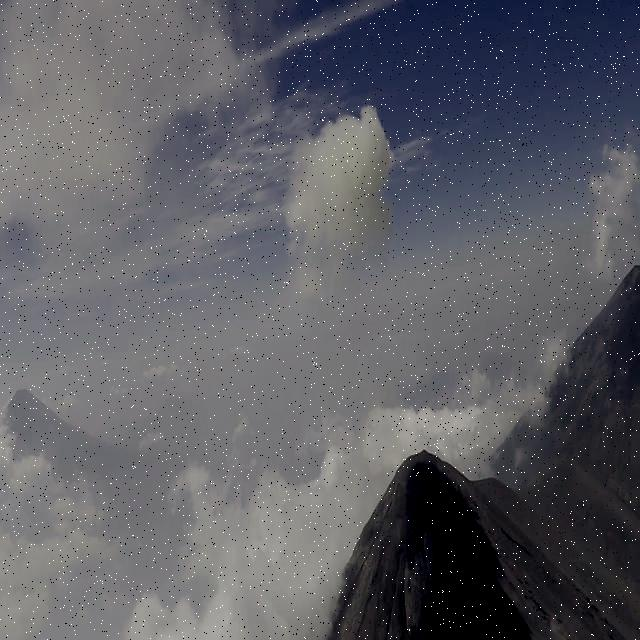Plume: (268, 96, 397, 292)
Summit: (324, 431, 520, 640)
